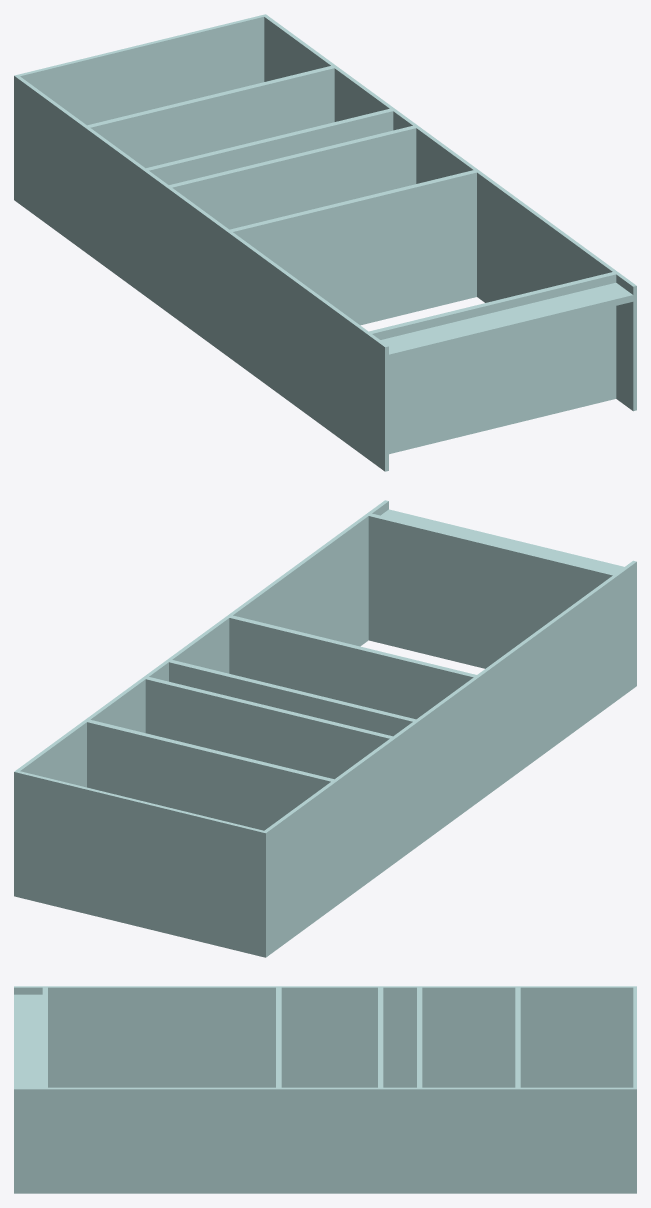
The model's file is Shelf_MR.dae.
3 views of the same model, one above another, from view 1: azimuth 30°, elevation 25°; view 2: azimuth 150°, elevation 25°; view 3: azimuth 270°, elevation 25° (orthographic). The views are drawn at different scales.
Visible parts, largest first — view 1: node0; view 2: node0; view 3: node0.
Part boxes in pixels (left/top/right/bottom): node0: left=14, top=14, right=636, bottom=471; node0: left=14, top=500, right=636, bottom=957; node0: left=14, top=986, right=636, bottom=1193.
Size of the model in its own units: 0.796 by 2.03 by 0.376.
